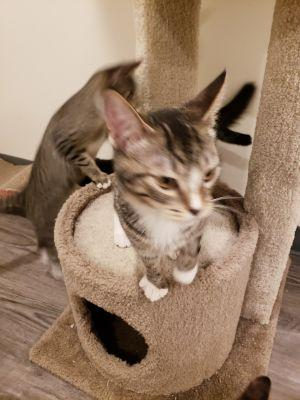bengal: (97, 53, 250, 225)
